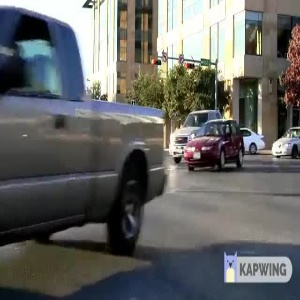car: (185, 119, 245, 172)
truck: (1, 4, 164, 257)
